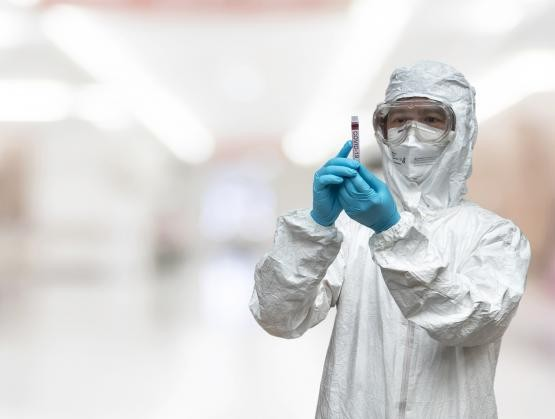Coverall: (247, 59, 532, 419)
Gloves: (309, 139, 360, 227), (337, 163, 401, 233)
Goggles: (372, 100, 455, 145)
with_mask: (384, 109, 452, 183)
